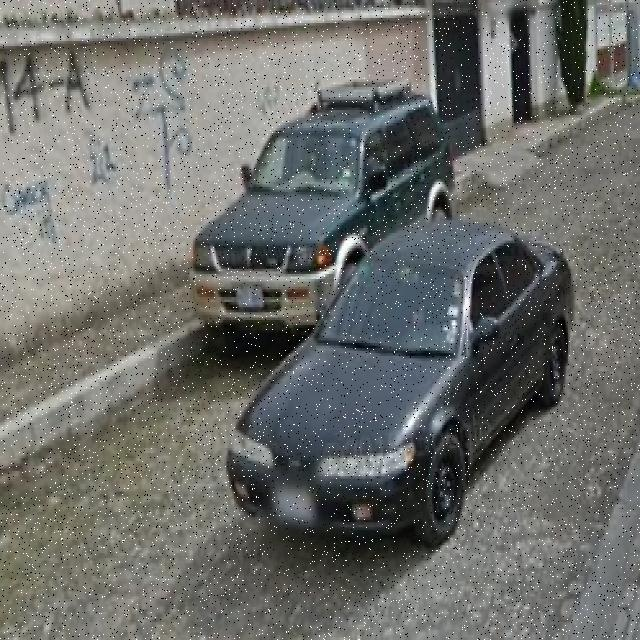cars: (236, 268, 585, 541), (184, 95, 455, 288)
